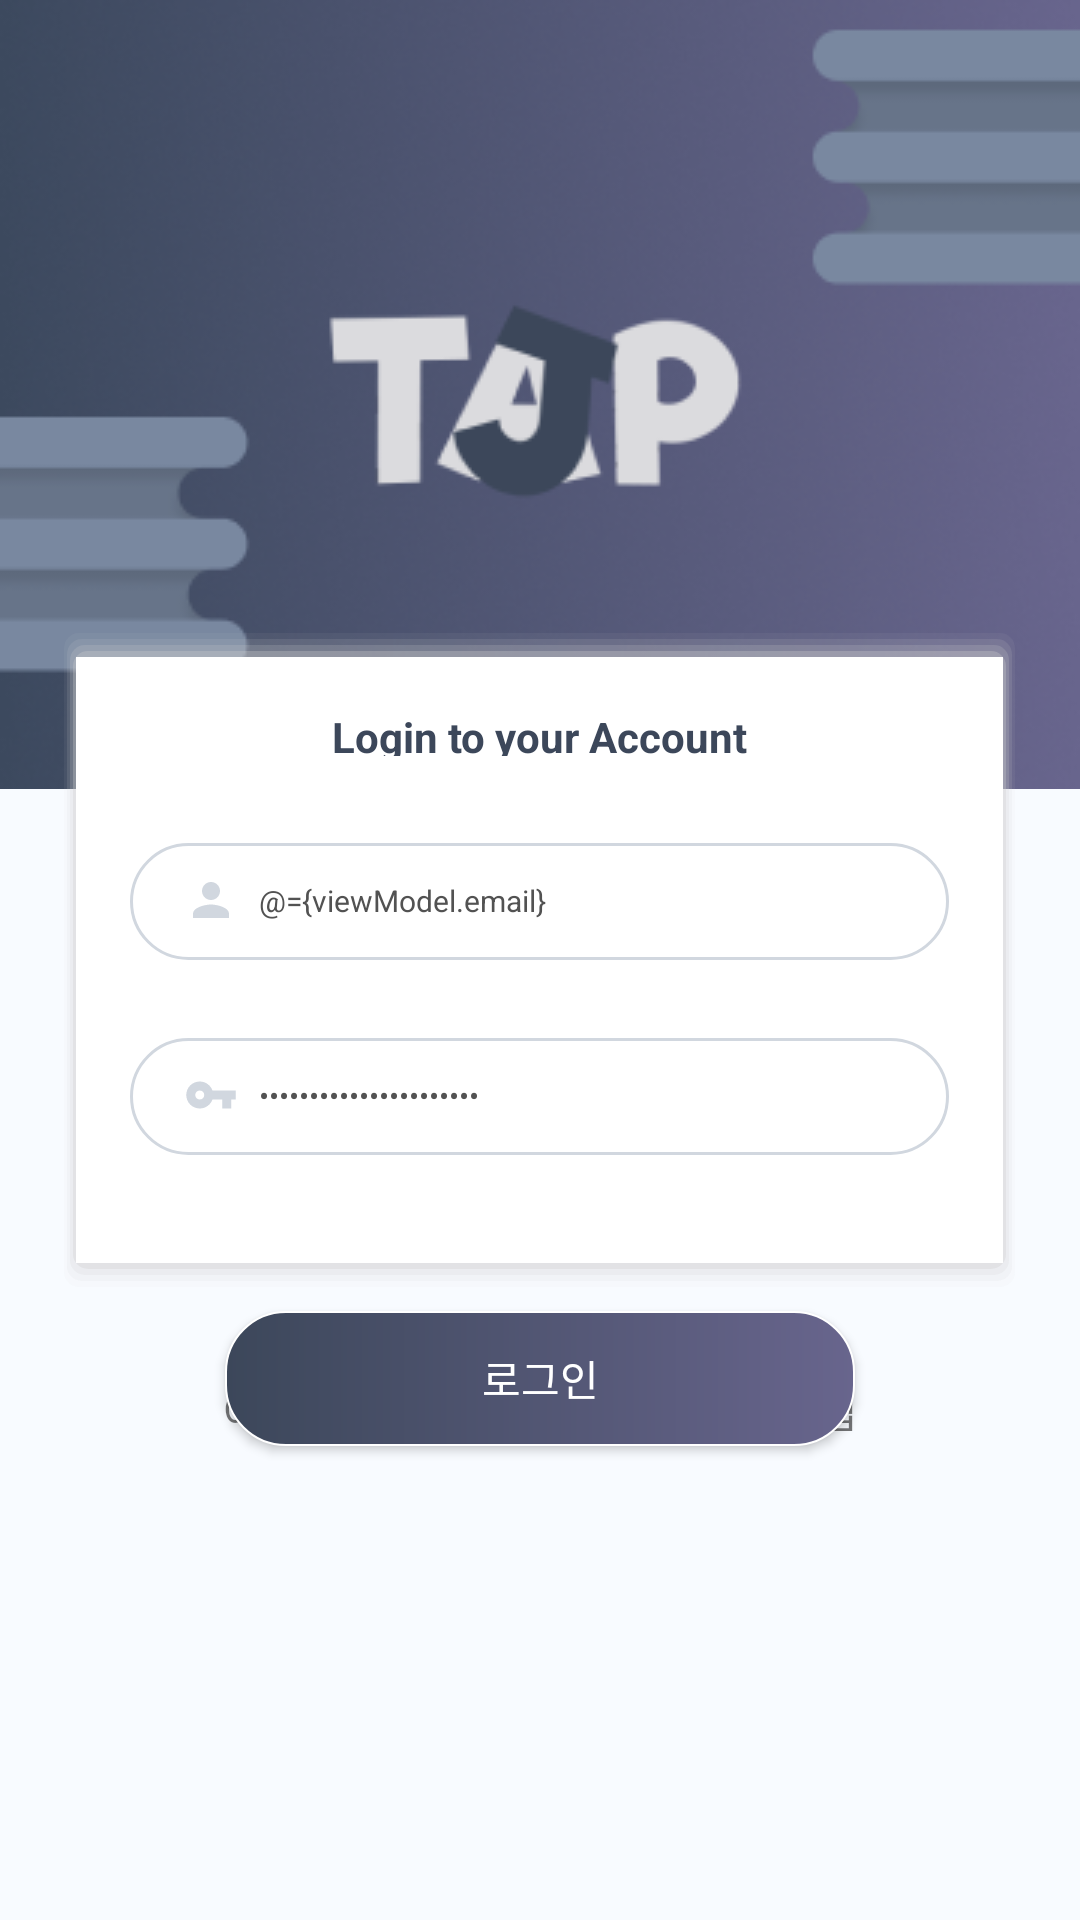

Icon click points for this 1080x1920 phone screenshot, format (x,y):
person: (211,900)
vpn key: (211,1095)
